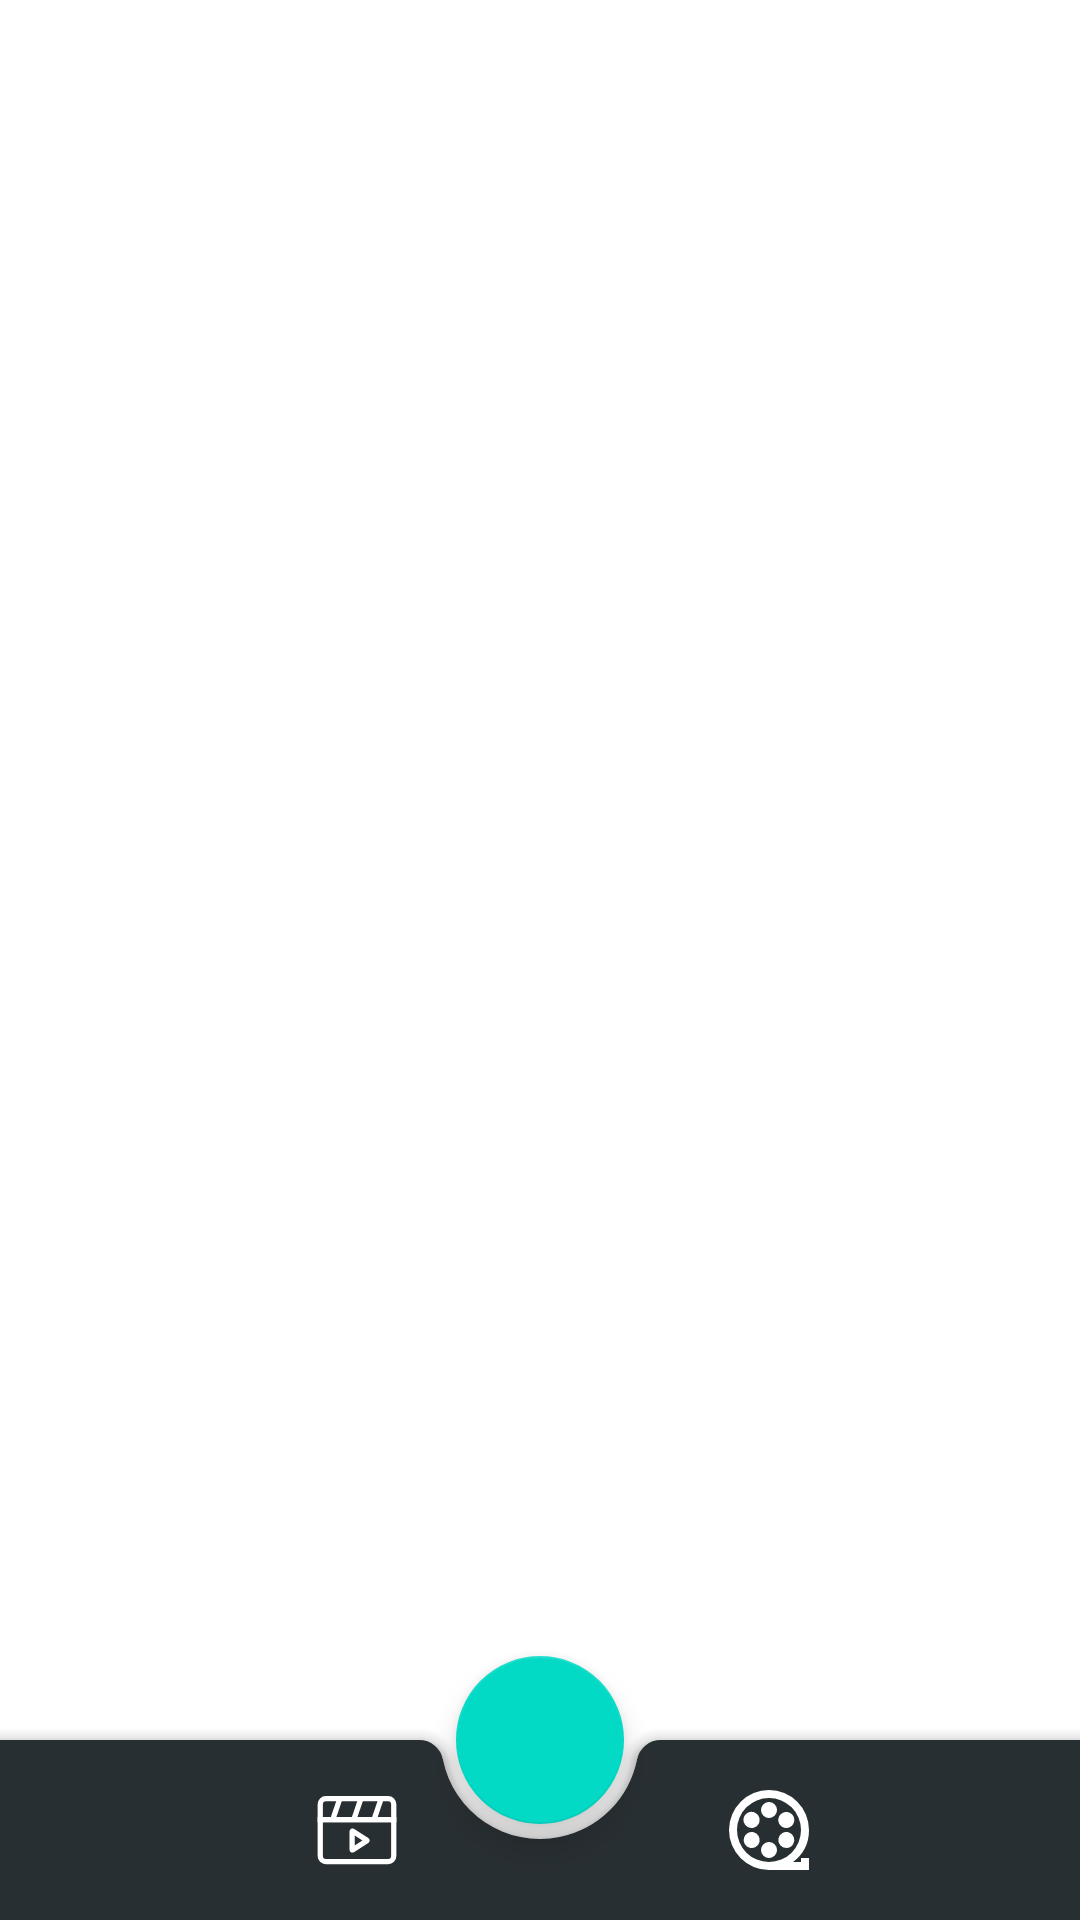

Named icons in this screenshot (1080 × 1920) and their centers, [x,y]:
movie: [357,1830]
